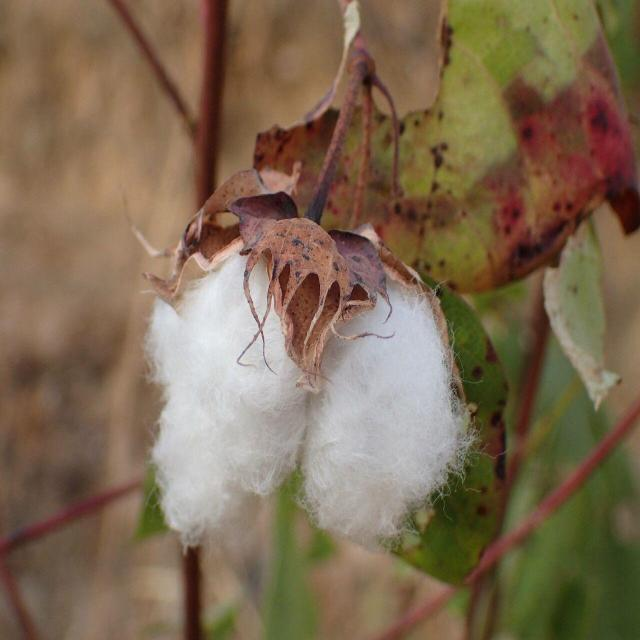Late_blight: (148, 205, 450, 548)
